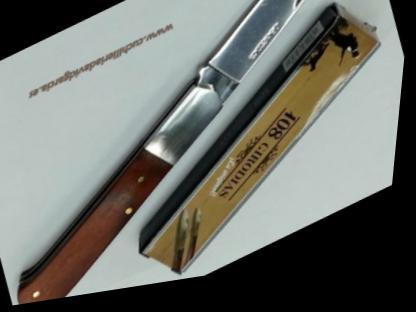knife: (159, 0, 404, 129)
